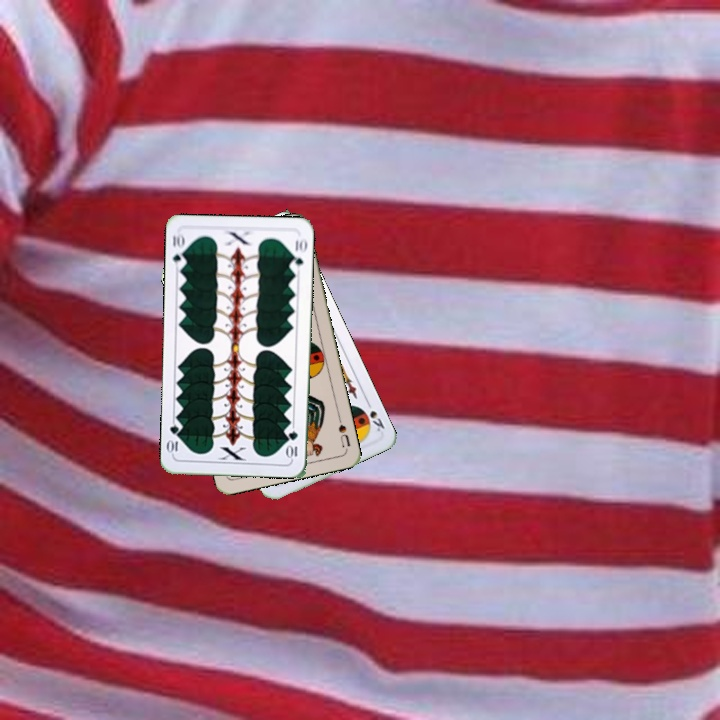G10: (168, 229, 188, 270), (284, 427, 300, 461)
SK: (362, 396, 387, 434)
SU: (334, 412, 353, 452)
